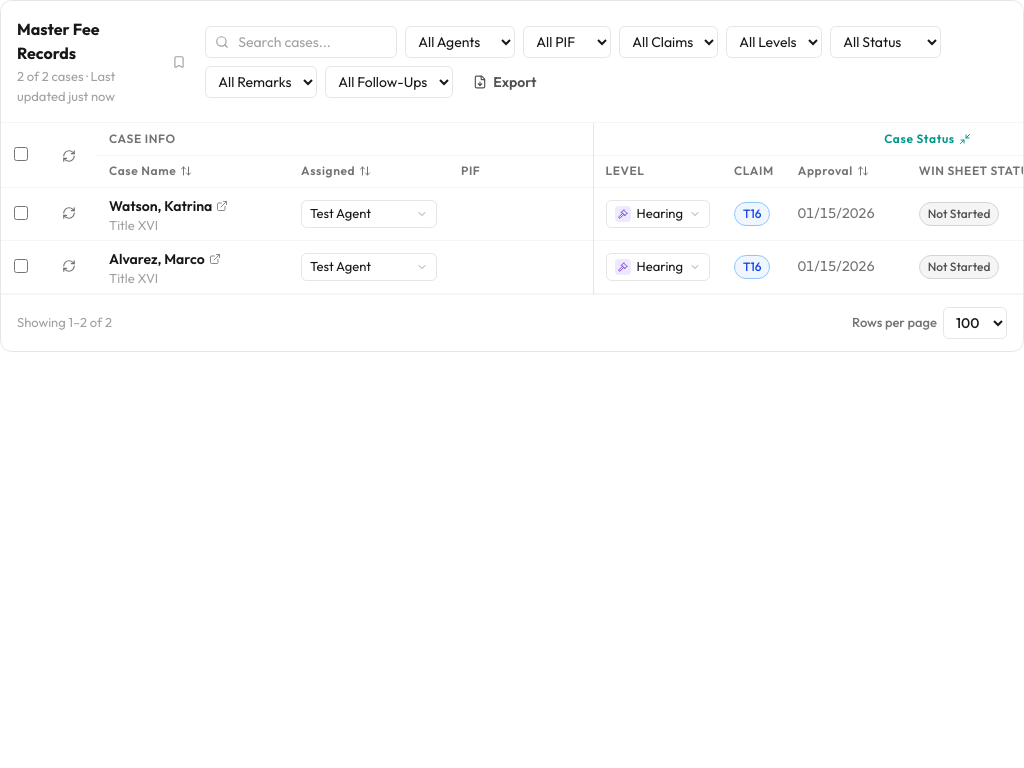
Test: FeeRecordsTable — Add to Fee Petitions batch action › closes cleanly when the server updated everything asked for
What coordinates should you click on to do the following:
click the checkbox named "Select Watson, Katrina"
I would click on:
 (21, 212)
Its box is [14,206,28,220].
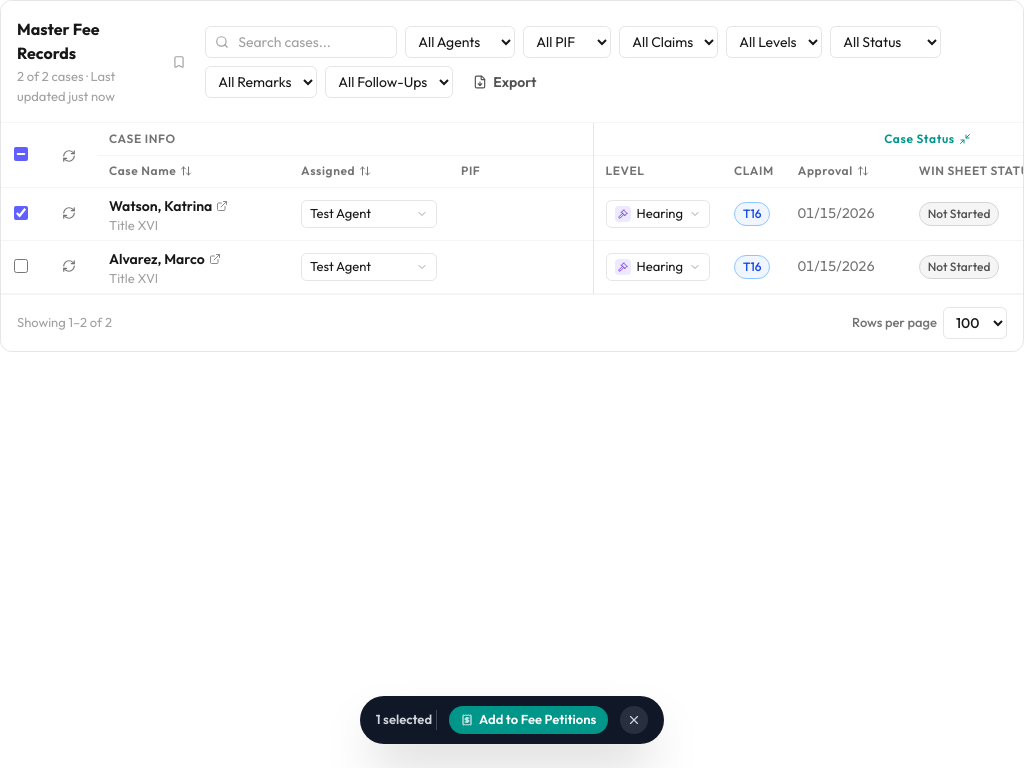
What coordinates should you click on to do the following:
click the checkbox named "Select Alvarez, Marco"
I would click on:
 (21, 266)
Its box is [14,258,28,272].
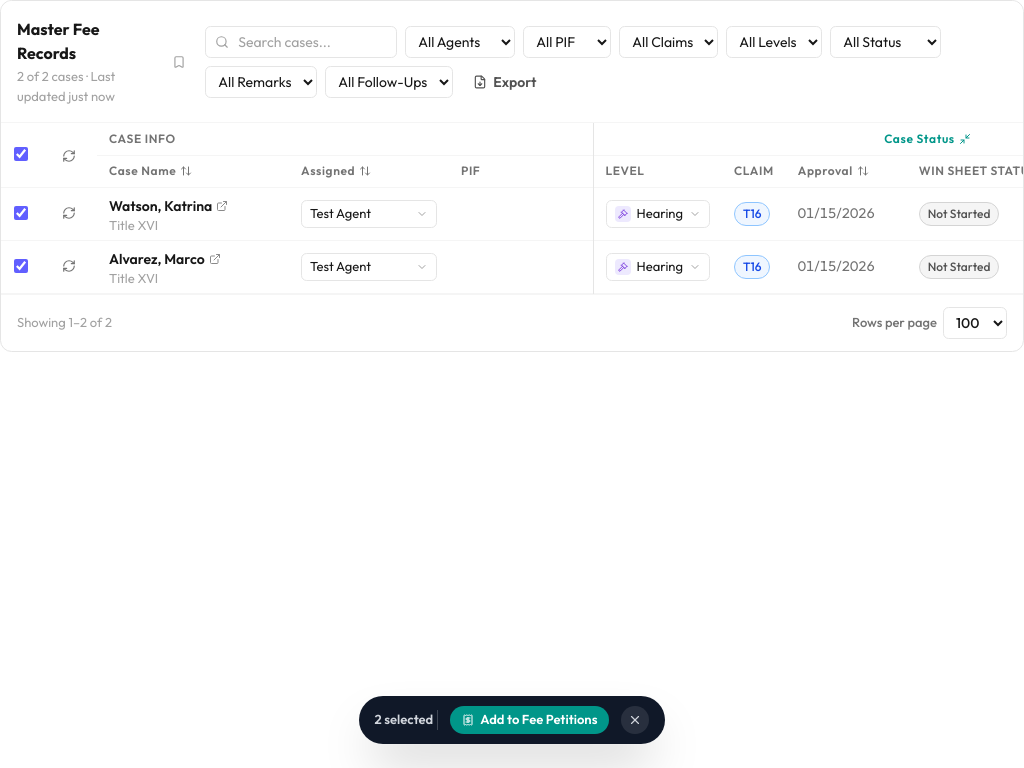
What coordinates should you click on to do the following:
click the button "Add to Fee Petitions"
I would click on:
 (530, 720)
Its box is [450,706,610,734].
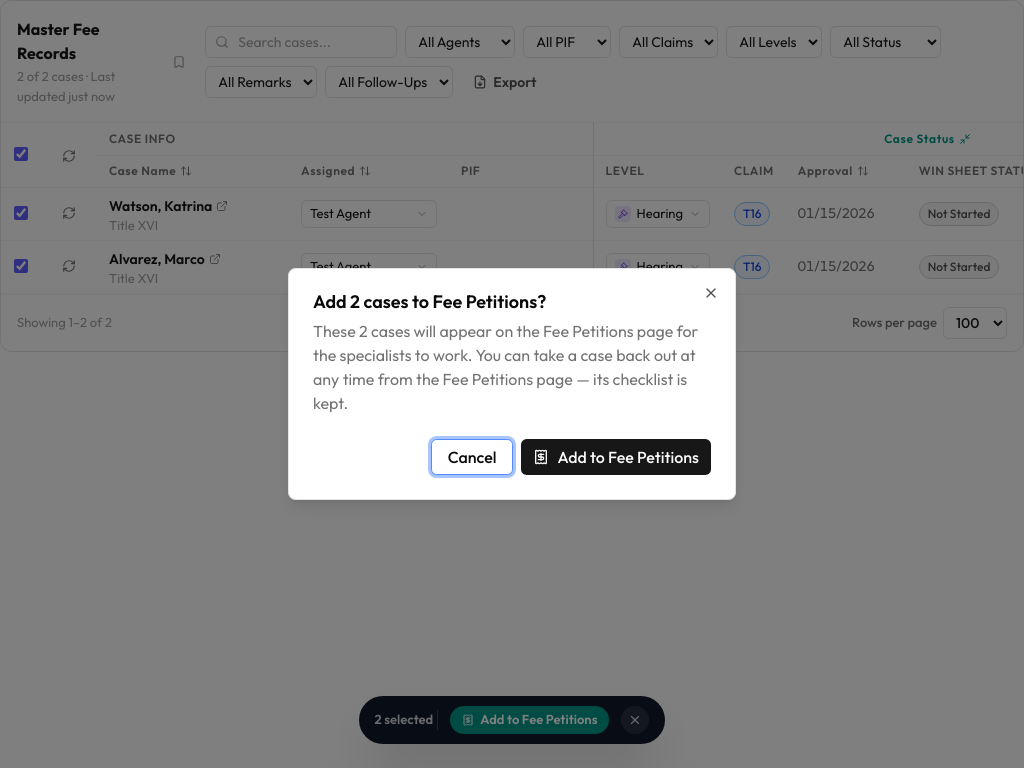
What coordinates should you click on to do the following:
click the button "Add to Fee Petitions"
I would click on:
 (616, 457)
Its box is [521,439,711,475].
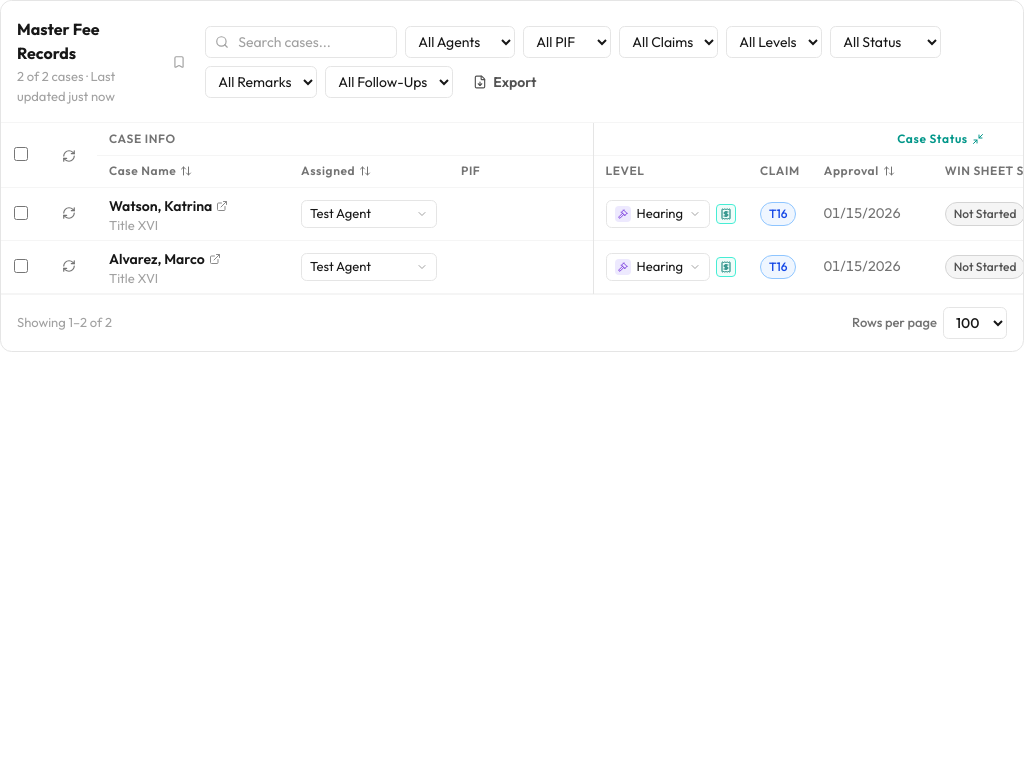
Result: the dialog is gone
